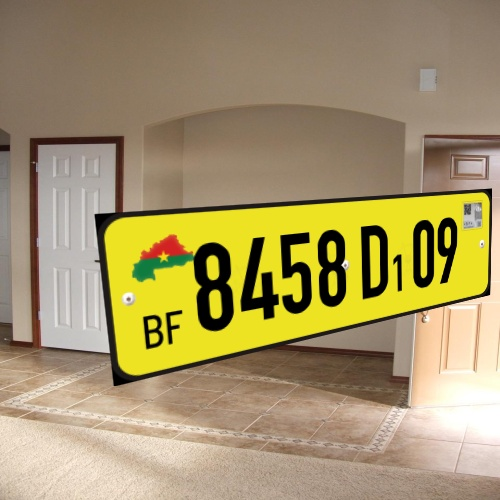plate: (78, 182, 500, 396)
